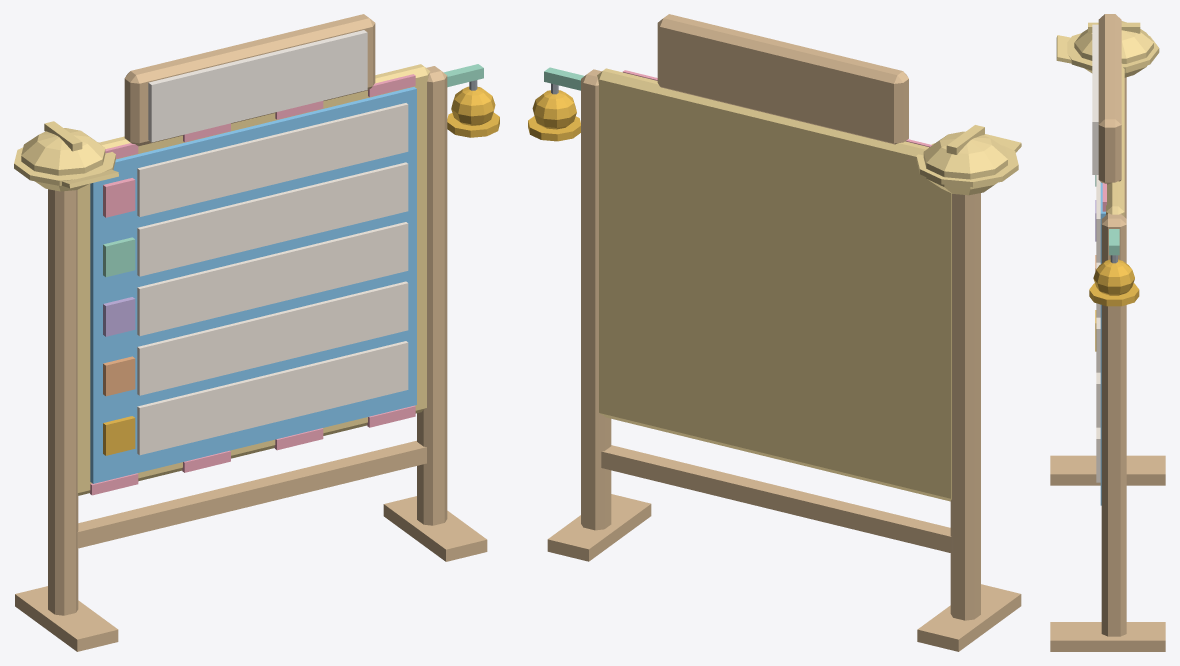
The model's file is CleanACat_Prop_BuildBoard.fbx.
The picture shows the model from 3 angles, left to right: view 1: azimuth 30°, elevation 25°; view 2: azimuth 150°, elevation 25°; view 3: azimuth 270°, elevation 25°; orthographic projection. The views are drawn at different scales.
Visible parts, largest first — view 1: CleanACat_Prop_BuildBoard, CleanACat_Prop_BuildBoard_Screen, CleanACat_Prop_BuildBoard_Bell; view 2: CleanACat_Prop_BuildBoard, CleanACat_Prop_BuildBoard_Bell; view 3: CleanACat_Prop_BuildBoard, CleanACat_Prop_BuildBoard_Bell, CleanACat_Prop_BuildBoard_Screen.
Part boxes in pixels (x1=…): CleanACat_Prop_BuildBoard: x1=14, y1=14, x2=487, y2=651; CleanACat_Prop_BuildBoard_Screen: x1=148, y1=30, x2=367, y2=142; CleanACat_Prop_BuildBoard_Bell: x1=447, y1=80, x2=499, y2=137; CleanACat_Prop_BuildBoard: x1=544, y1=14, x2=1021, y2=651; CleanACat_Prop_BuildBoard_Bell: x1=528, y1=83, x2=580, y2=141; CleanACat_Prop_BuildBoard: x1=1050, y1=14, x2=1165, y2=651; CleanACat_Prop_BuildBoard_Bell: x1=1089, y1=255, x2=1139, y2=306; CleanACat_Prop_BuildBoard_Screen: x1=1092, y1=24, x2=1098, y2=174.
Bounding box in the file's own units: 4.85 × 5.2 × 1.1.
1 material, 1 textured.
